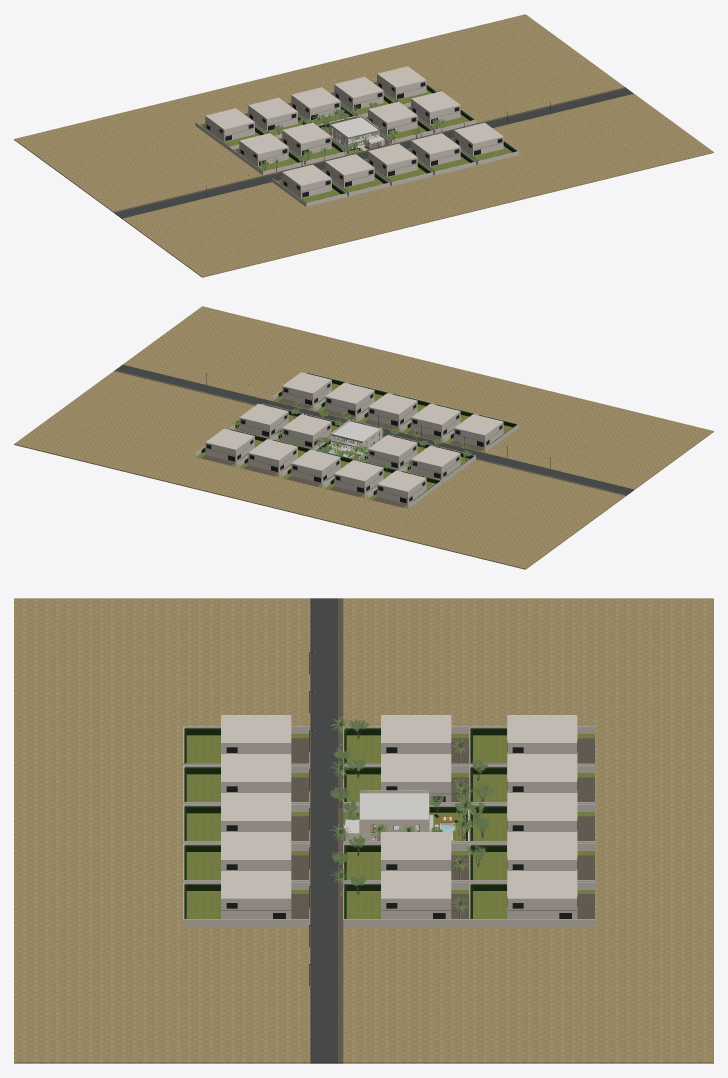
The model's file is villa.glb.
3 views of the same model, one above another, from view 1: azimuth 30°, elevation 25°; view 2: azimuth 150°, elevation 25°; view 3: azimuth 270°, elevation 25° (orthographic). The views are drawn at different scales.
Parts seen in each view (by area): view 1: far, roof, first; view 2: far, roof; view 3: far, roof, first, site.
Boxes of the visible parts, x1,y1,x2,y2 form: far: (14, 14, 713, 277); roof: (330, 116, 379, 138); first: (329, 116, 384, 144); far: (14, 306, 713, 569); roof: (331, 420, 381, 442); far: (14, 598, 713, 1063); roof: (359, 791, 429, 819); first: (345, 790, 429, 833); site: (343, 804, 468, 843).
Size of the model in its own units: 300 by 12.53 by 191.
69 materials, 32 textured.
